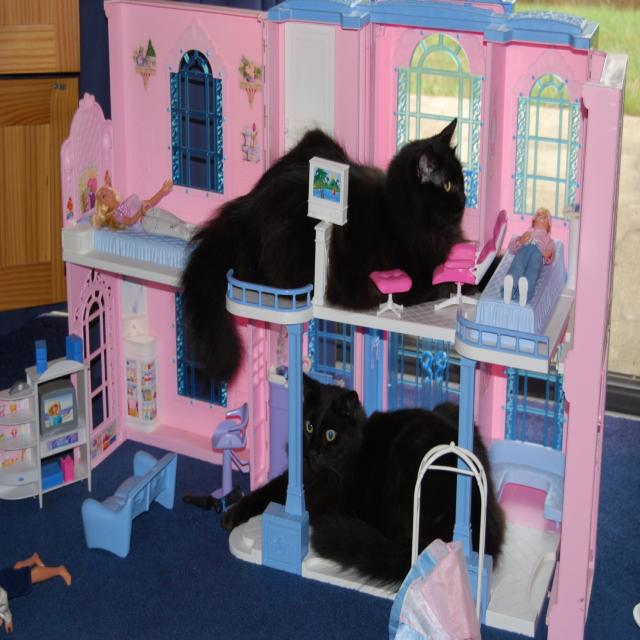cat: (188, 91, 481, 424)
